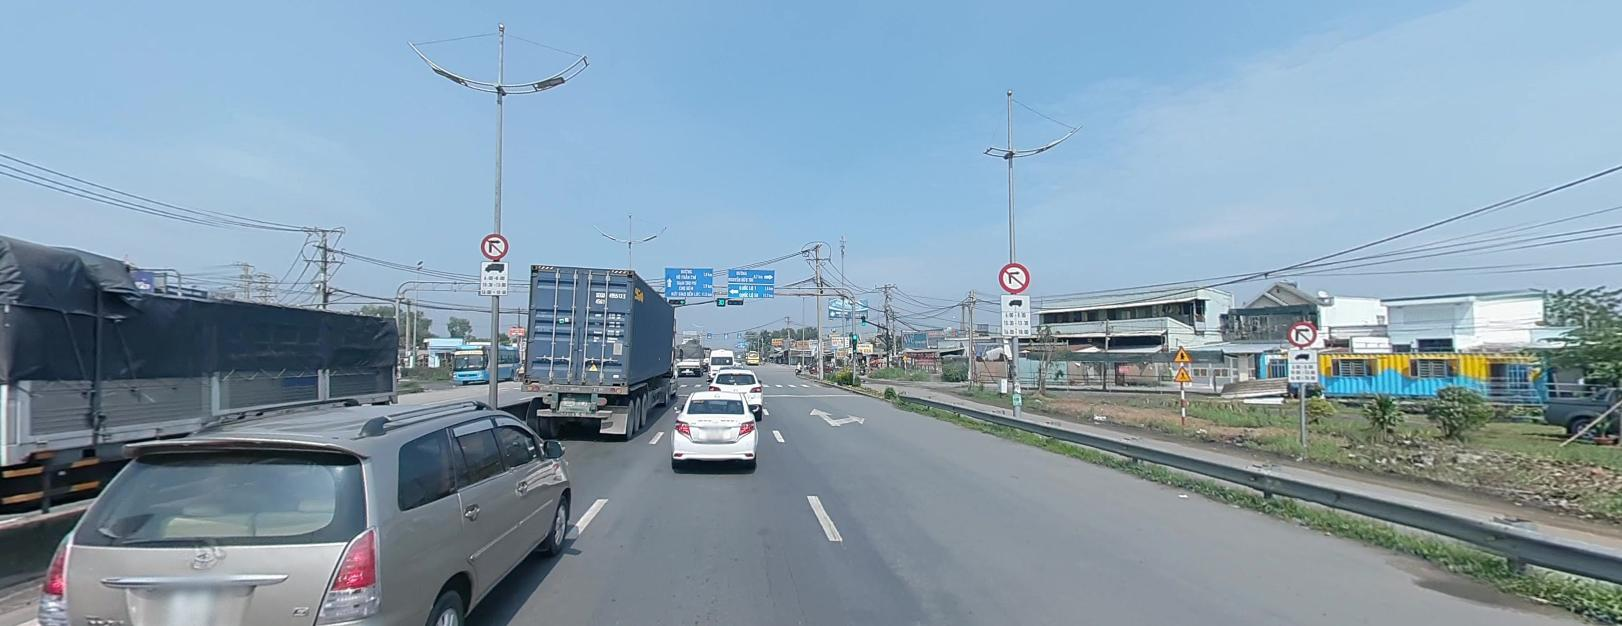Cam re: (998, 261, 1029, 291), (480, 232, 507, 258), (1287, 321, 1315, 345)
Nguy hiem: (1173, 345, 1191, 360), (1173, 365, 1191, 380)
